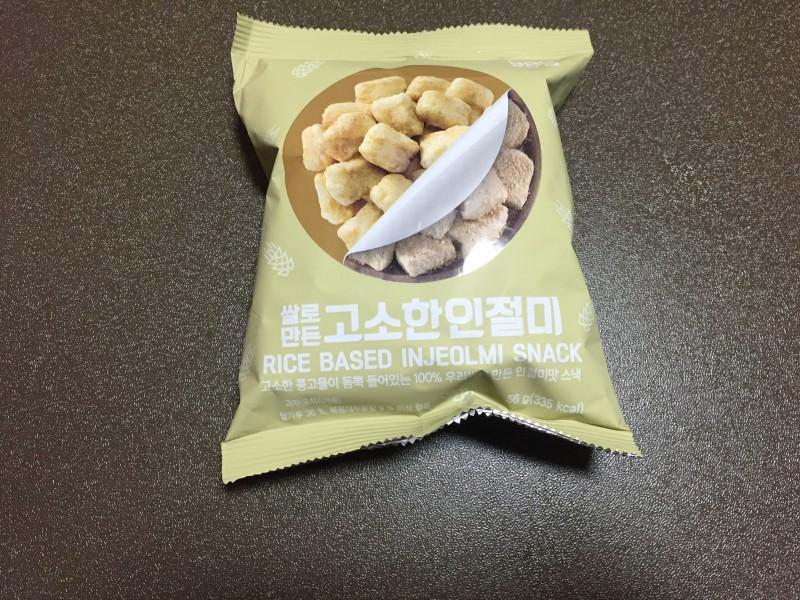snack: (221, 8, 645, 484)
